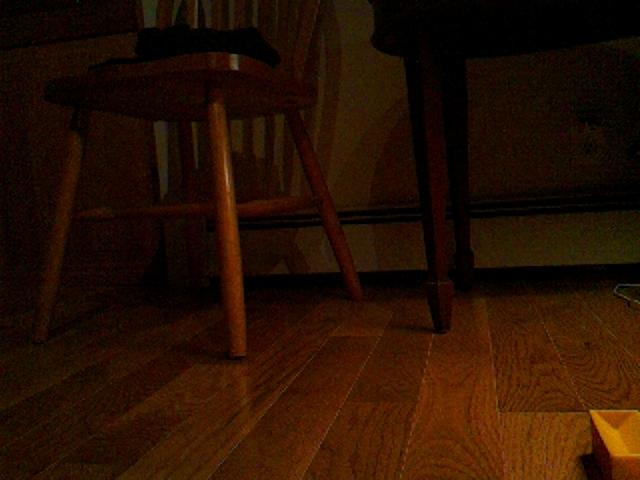yellow: (588, 407, 640, 480)
